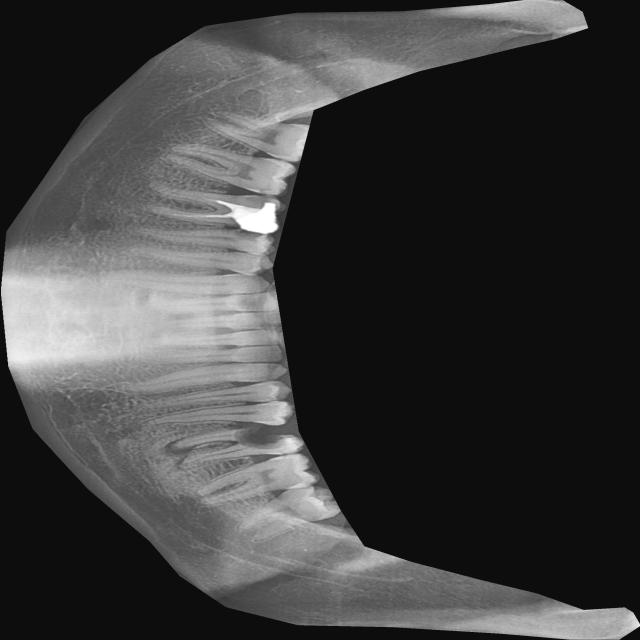mandibula: (0, 0, 640, 640)
